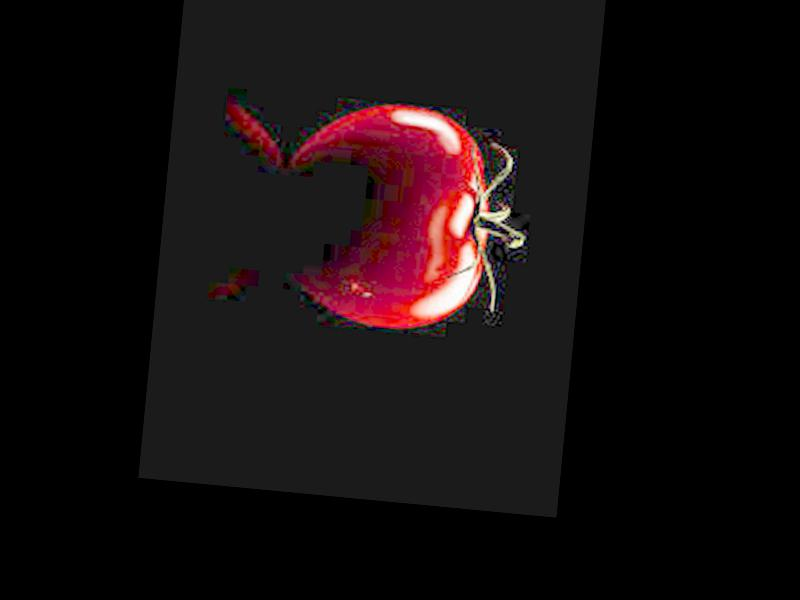Tomato: (282, 97, 504, 337)
